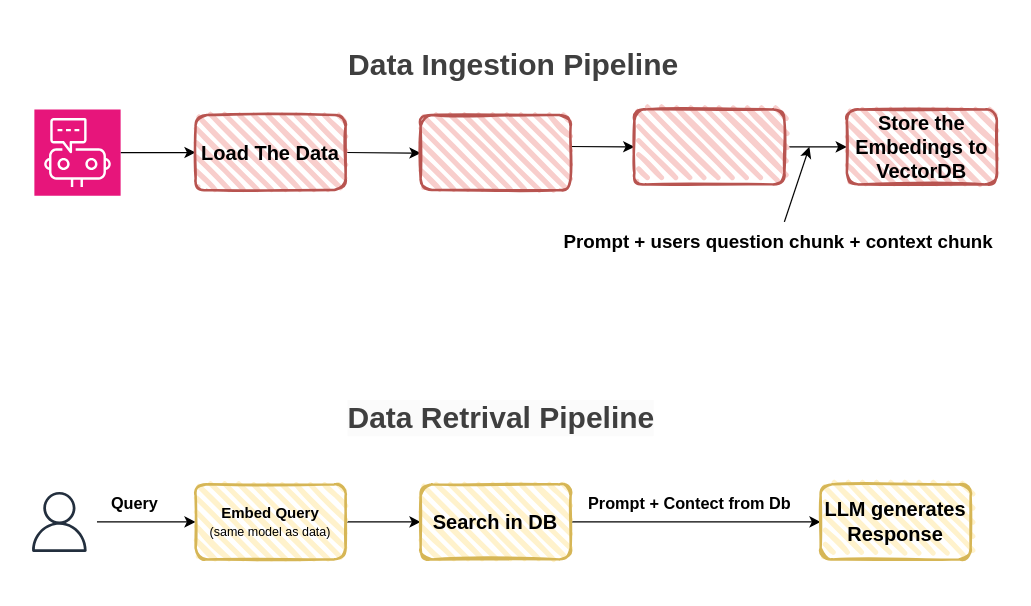
Image size: 1031x606. Some labels were removed from this diagram. Here are the shapes that lost their labels. From the top down, the box of each, then its label:
(419, 113, 571, 191): Convert the data to Chunk
(632, 108, 785, 185): Apply Embedings Algorithms
(21, 483, 97, 559): User
